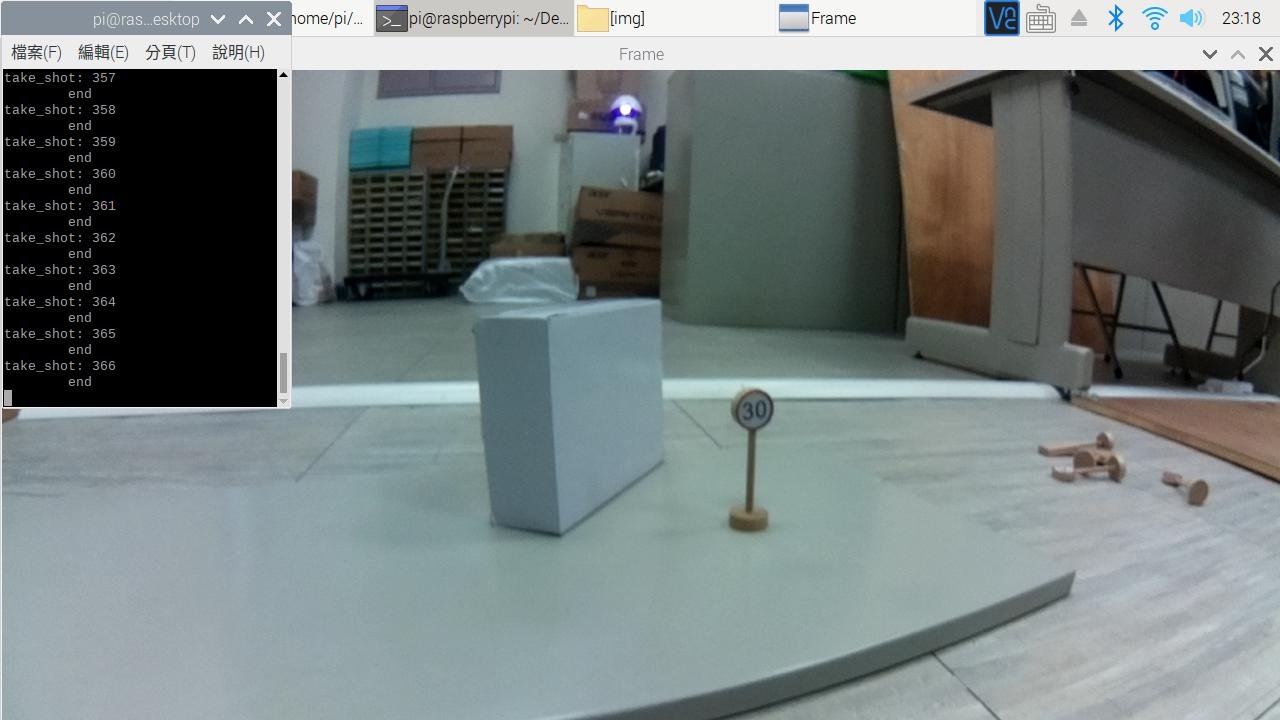Speed30: (726, 387, 792, 439)
